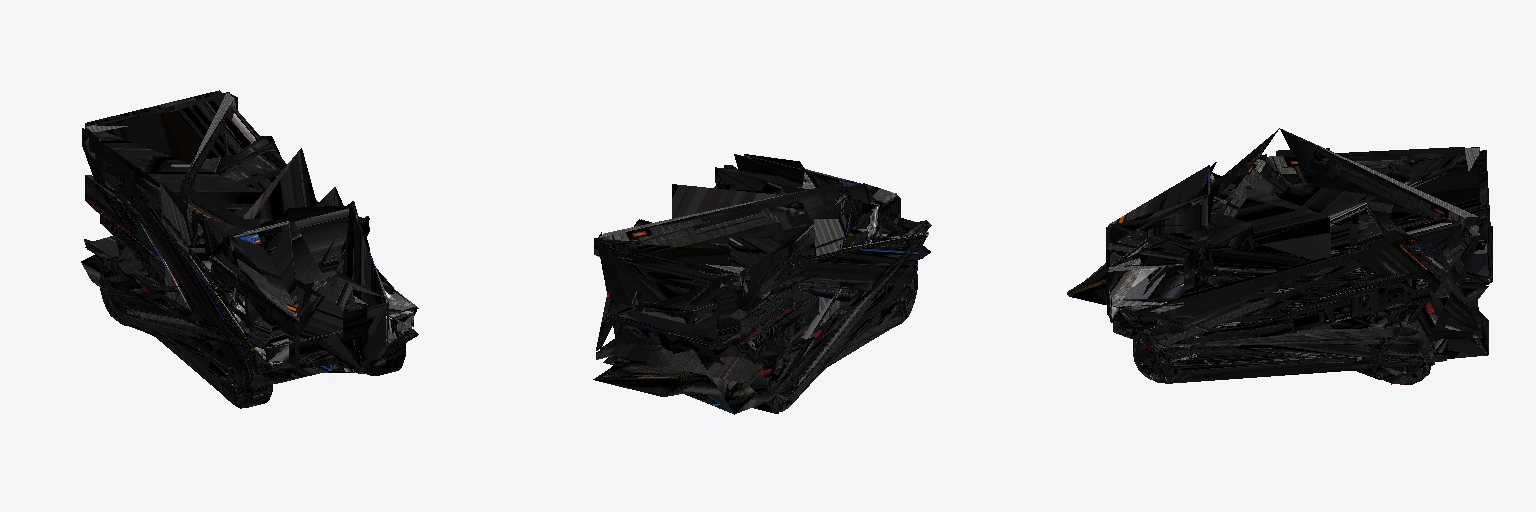
3 views of the same model, side by side, from view 1: azimuth 30°, elevation 25°; view 2: azimuth 150°, elevation 25°; view 3: azimuth 270°, elevation 25° (orthographic).
Visible parts, largest first — view 1: 1, 2, 3, 4, 0; view 2: 1, 2, 4, 3, 0; view 3: 1, 2, 3, 4.
Part boxes in pixels (x1,y1,x2,y2): 1: (81, 91, 418, 407); 2: (85, 90, 416, 408); 3: (86, 175, 404, 406); 4: (81, 177, 327, 367); 0: (85, 175, 156, 265); 1: (594, 154, 931, 413); 2: (597, 165, 928, 413); 4: (594, 244, 880, 414); 3: (593, 271, 917, 410); 0: (740, 285, 814, 345); 1: (1067, 128, 1492, 384); 2: (1067, 150, 1492, 384); 3: (1133, 276, 1487, 383); 4: (1222, 276, 1488, 362).
Size of the model in its own units: 2.92 by 3.12 by 6.59.
6 materials, 6 textured.